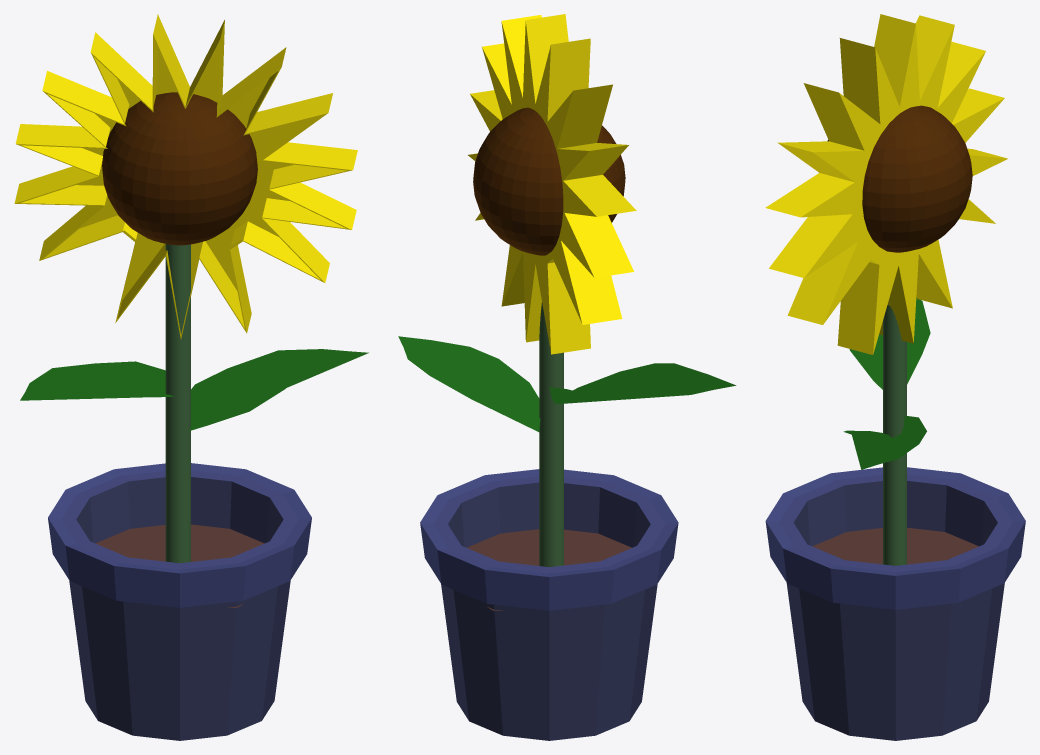
Rendered from Nicole-sunflower.fbx.
3 renders of one model, left to right at view 1: azimuth 30°, elevation 25°; view 2: azimuth 150°, elevation 25°; view 3: azimuth 270°, elevation 25°, orthographic. The views are drawn at different scales.
Visible parts, largest first — view 1: Cylinder, Circle, Sphere, Stem, Leaf1.001, Leaf1, Plane; view 2: Cylinder, Circle, Sphere, Leaf1.001, Stem, Leaf1, Plane; view 3: Cylinder, Circle, Sphere, Stem, Plane, Leaf1.001, Leaf1.
Boxes of the visible parts, x1,y1,x2,y2 form: Cylinder: (48, 463, 311, 740); Circle: (14, 14, 357, 339); Sphere: (102, 92, 257, 245); Stem: (165, 244, 190, 563); Leaf1.001: (188, 349, 368, 431); Leaf1: (20, 361, 174, 400); Plane: (95, 524, 264, 607); Cylinder: (420, 469, 678, 740); Circle: (468, 14, 636, 354); Sphere: (473, 107, 625, 255); Leaf1.001: (398, 336, 540, 431); Stem: (539, 302, 563, 567); Leaf1: (549, 363, 736, 403); Plane: (467, 529, 631, 610); Cylinder: (765, 467, 1025, 740); Circle: (765, 14, 1007, 354); Sphere: (827, 105, 972, 252); Stem: (883, 305, 906, 565); Plane: (812, 527, 978, 564); Leaf1.001: (843, 415, 926, 469); Leaf1: (849, 297, 930, 389).
Size of the model in its own units: 338 by 633 by 223.
